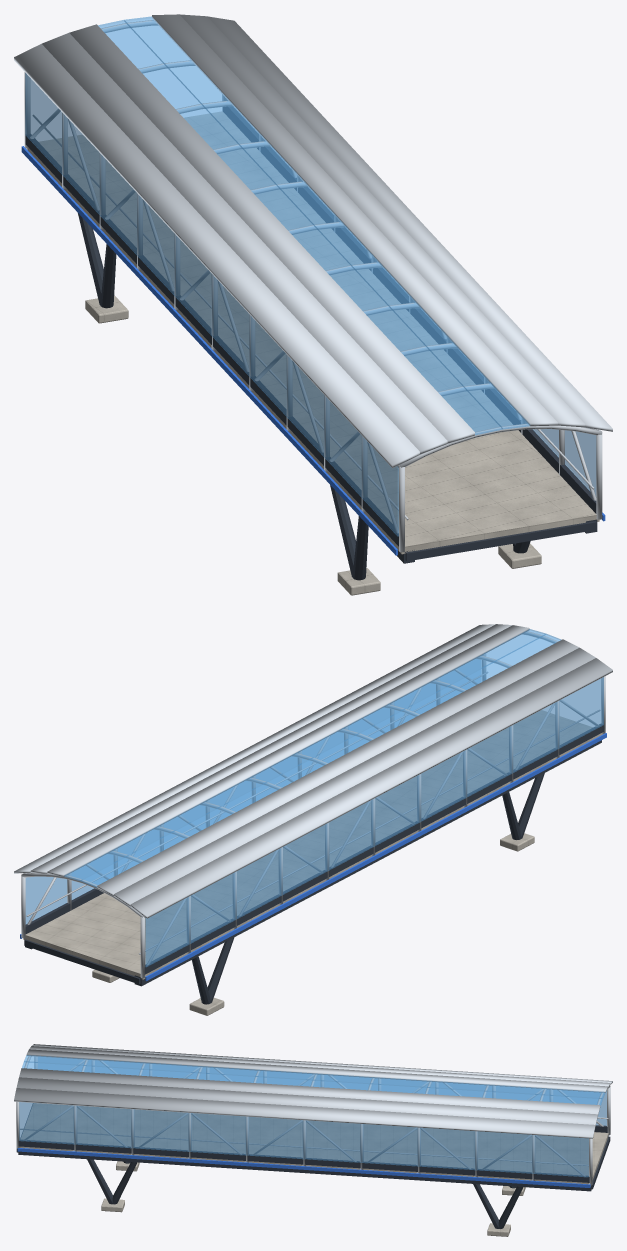
File: landmark_skybridge.glb
3 views of the same model, one above another, from view 1: azimuth 30°, elevation 25°; view 2: azimuth 150°, elevation 25°; view 3: azimuth 270°, elevation 25° (orthographic). The views are drawn at different scales.
Parts seen in each view (by area): view 1: Skybridge_RoofShell, Skybridge_GlassWalls, Skybridge_Deck, Skybridge_DarkGirders, Skybridge_SteelTruss, Skybridge_BlueTrim; view 2: Skybridge_RoofShell, Skybridge_GlassWalls, Skybridge_Deck, Skybridge_SteelTruss, Skybridge_DarkGirders, Skybridge_BlueTrim; view 3: Skybridge_GlassWalls, Skybridge_RoofShell, Skybridge_Deck, Skybridge_DarkGirders, Skybridge_SteelTruss, Skybridge_BlueTrim.
Part boxes in pixels (x1,y1,x2,y2): Skybridge_RoofShell: [14, 14, 612, 468]; Skybridge_GlassWalls: [25, 16, 596, 536]; Skybridge_Deck: [27, 111, 599, 595]; Skybridge_DarkGirders: [25, 106, 597, 580]; Skybridge_SteelTruss: [24, 20, 602, 552]; Skybridge_BlueTrim: [21, 146, 605, 555]; Skybridge_RoofShell: [14, 624, 612, 918]; Skybridge_GlassWalls: [25, 629, 603, 966]; Skybridge_Deck: [23, 710, 602, 1015]; Skybridge_SteelTruss: [21, 631, 605, 978]; Skybridge_DarkGirders: [24, 724, 603, 1004]; Skybridge_BlueTrim: [20, 733, 606, 981]; Skybridge_GlassWalls: [19, 1055, 606, 1177]; Skybridge_RoofShell: [14, 1044, 612, 1138]; Skybridge_Deck: [19, 1103, 608, 1236]; Skybridge_DarkGirders: [16, 1104, 610, 1228]; Skybridge_SteelTruss: [16, 1056, 610, 1185]; Skybridge_BlueTrim: [17, 1148, 590, 1187].
Size of the model in its own units: 13.74 by 8.3 by 37.44.
Materials: 6 (1 with a texture image).
